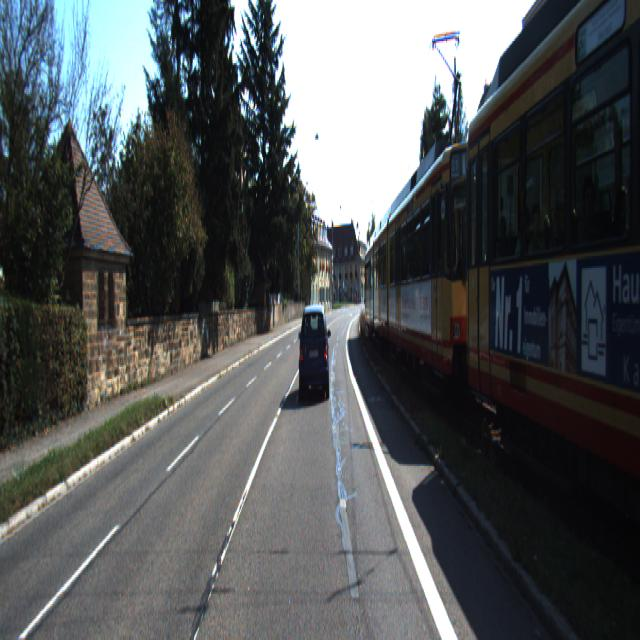Car: (466, 0, 640, 596), (386, 118, 509, 422), (372, 208, 416, 360), (364, 230, 395, 345), (300, 304, 331, 404)
